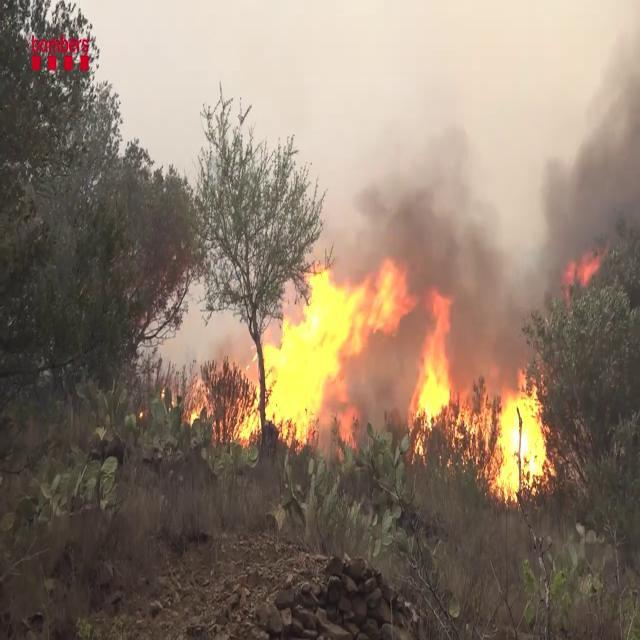Fire: (238, 247, 406, 447), (407, 311, 555, 497)
Smoke: (326, 9, 640, 335)
